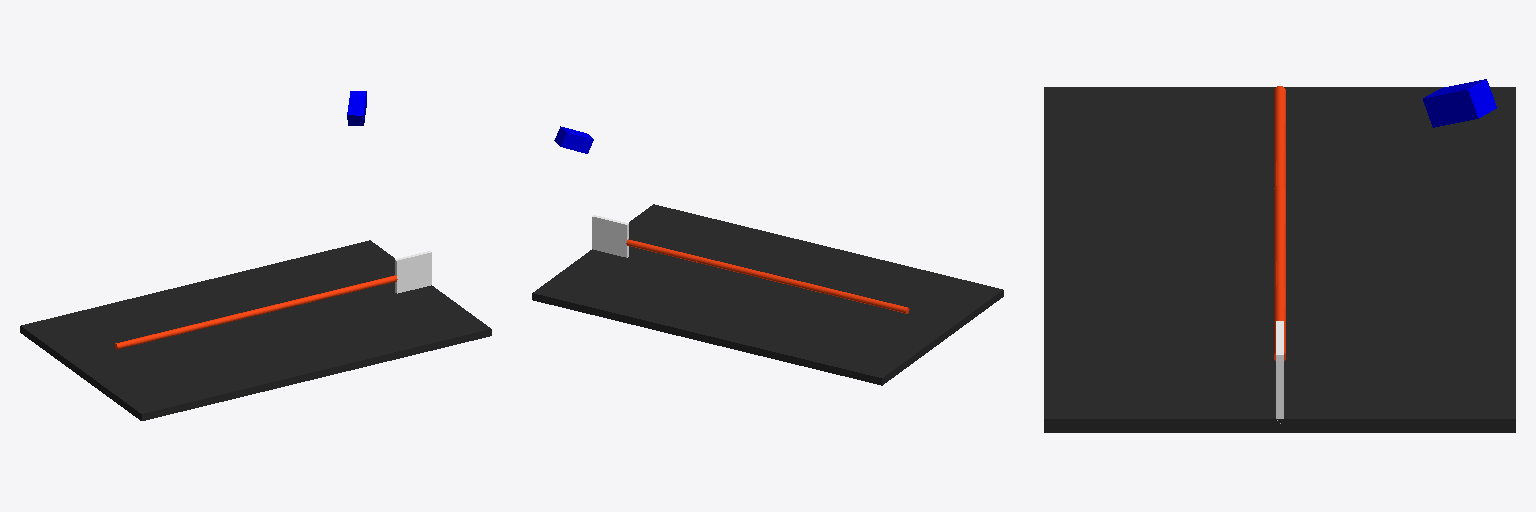
robot.urdf — robot:
<?xml version="1.0" ?>
<!-- =================================================================================== -->
<!-- |    This document was autogenerated by xacro from /inmoov/ros2_ws/src/inmoov_description/robots/example_robot.urdf.xacro | -->
<!-- |    EDITING THIS FILE BY HAND IS NOT RECOMMENDED                                 | -->
<!-- =================================================================================== -->
<robot name="robot">
  <material name="grey">
    <color rgba="0.2 0.2 0.2 1"/>
  </material>
  <material name="white">
    <color rgba="1 1 1 1"/>
  </material>
  <material name="orange">
    <color rgba="1 0.3 0.1 1"/>
  </material>
  <material name="blue">
    <color rgba="0 0 1 1"/>
  </material>
  <link name="world"/>
  <joint name="world_to_base" type="fixed">
    <parent link="world"/>
    <child link="base"/>
    <origin rpy="1.57 0 0" xyz="0 0 0"/>
  </joint>
  <link name="base">
    <visual>
      <origin rpy="0 0 0" xyz="2 0 0"/>
      <geometry>
        <box size="5 0.1 3"/>
      </geometry>
      <material name="grey"/>
    </visual>
  </link>
  <joint name="base_to_l3" type="revolute">
    <parent link="base"/>
    <child link="l3"/>
    <origin rpy="0 0 0" xyz="0 0.25 0"/>
    <axis rpy="0 0 0" xyz="0 0 1"/>
    <limit effort="0.1" lower="-3.1" upper="3.1" velocity="0.2"/>
  </joint>
  <link name="l3">
    <visual>
      <origin rpy="0 1.57 0" xyz="0.75 0 0"/>
      <geometry>
        <cylinder length="1.5" radius="0.04"/>
      </geometry>
      <material name="orange"/>
    </visual>
  </link>
  <joint name="l3_to_l2" type="revolute">
    <parent link="l3"/>
    <child link="l2"/>
    <!-- <origin xyz="1 0 0" /> -->
    <origin rpy="0 0 0" xyz="1.5 0 0"/>
    <axis rpy="0 0 0" xyz="0 0 1"/>
    <limit effort="0.1" lower="-3.1" upper="3.1" velocity="0.2"/>
  </joint>
  <link name="l2">
    <visual>
      <origin rpy="0 1.57 0" xyz="0.75 0 0"/>
      <geometry>
        <cylinder length="1.5" radius="0.04"/>
      </geometry>
      <material name="orange"/>
    </visual>
  </link>
  <joint name="l2_to_l1" type="revolute">
    <parent link="l2"/>
    <child link="l1"/>
    <origin rpy="0 0 0" xyz="1.5 0 0"/>
    <axis rpy="0 0 0" xyz="0 0 1"/>
    <limit effort="0.1" lower="-3.1" upper="3.1" velocity="0.2"/>
  </joint>
  <link name="l1">
    <visual>
      <origin rpy="0 1.57 0" xyz="0.5 0 0"/>
      <geometry>
        <cylinder length="1" radius="0.04"/>
      </geometry>
      <material name="orange"/>
    </visual>
  </link>
  <joint name="l1_to_grip" type="revolute">
    <parent link="l1"/>
    <child link="grip"/>
    <origin rpy="0 0 0" xyz="1 0 0"/>
    <axis rpy="0 0 0" xyz="0 0 1"/>
    <limit effort="0.1" lower="-3.1" upper="3.1" velocity="0.2"/>
  </joint>
  <link name="grip">
    <visual>
      <origin xyz="0.25 0 0"/>
      <geometry>
        <box size="0.5 0.5 0.05"/>
      </geometry>
      <material name="white"/>
    </visual>
  </link>
  <joint name="world_to_camera" type="fixed">
    <parent link="world"/>
    <child link="camera"/>
    <origin rpy="-2 0 2.5" xyz="4 1 2"/>
  </joint>
  <link name="camera">
    <visual>
      <origin xyz="0 0 -0.2"/>
      <geometry>
        <box size="0.2 0.2 0.4"/>
      </geometry>
      <material name="blue"/>
    </visual>
  </link>
</robot>

--- Render facts (derived) ---
The picture shows the robot from 3 angles, left to right: view 1: azimuth 30°, elevation 25°; view 2: azimuth 150°, elevation 25°; view 3: azimuth 270°, elevation 25°; orthographic projection.
Model robot with 7 links and 6 joints (4 revolute, 2 fixed), rooted at world, posed all joints at 0.
Visible links, largest first — view 1: base, grip, l3, l2, camera; view 2: base, grip, l3, camera, l2; view 3: base, camera, l3, l2, grip, l1.
Link boxes in pixels (bbox=[...]): base: bbox=[20, 240, 491, 420]; grip: bbox=[395, 251, 431, 293]; l3: bbox=[114, 318, 222, 349]; l2: bbox=[221, 292, 327, 323]; camera: bbox=[347, 91, 366, 125]; base: bbox=[532, 204, 1003, 385]; grip: bbox=[592, 215, 628, 257]; l3: bbox=[801, 282, 909, 313]; camera: bbox=[554, 126, 593, 153]; l2: bbox=[696, 256, 802, 287]; base: bbox=[1044, 87, 1515, 432]; camera: bbox=[1423, 79, 1496, 127]; l3: bbox=[1274, 86, 1285, 188]; l2: bbox=[1274, 186, 1285, 287]; grip: bbox=[1276, 321, 1283, 423]; l1: bbox=[1274, 285, 1285, 360].
Size in the robot's own frame: 5 by 3 by 2.31 metres.
Geometry: primitives only (box / cylinder / sphere), no mesh files.